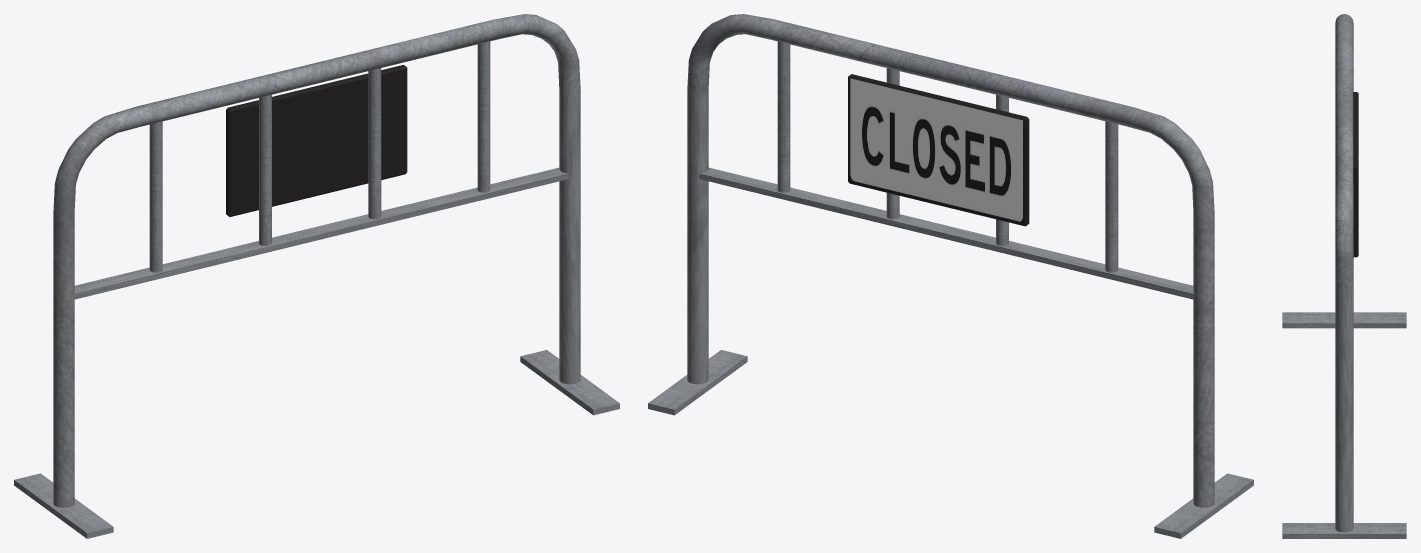
The model's file is barriorb.FBX.
The picture shows the model from 3 angles, left to right: view 1: azimuth 30°, elevation 25°; view 2: azimuth 150°, elevation 25°; view 3: azimuth 270°, elevation 25°; orthographic projection. The views are drawn at different scales.
Visible parts, largest first — view 1: RoadClosedSignFront; view 2: RoadClosedSignFront; view 3: RoadClosedSignFront.
Part boxes in pixels (x1,y1,x2,y2): RoadClosedSignFront: (14, 14, 619, 538); RoadClosedSignFront: (648, 14, 1253, 538); RoadClosedSignFront: (1282, 14, 1406, 538).
Size of the model in its own units: 1774 by 421 by 1220.
Materials: 2 (2 with a texture image).
